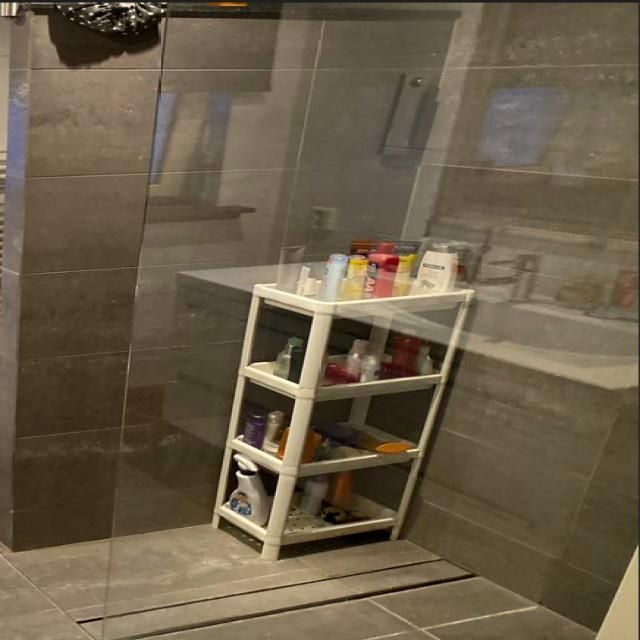douche: (0, 0, 640, 640)
wastafel: (166, 276, 640, 612), (172, 251, 640, 394)
